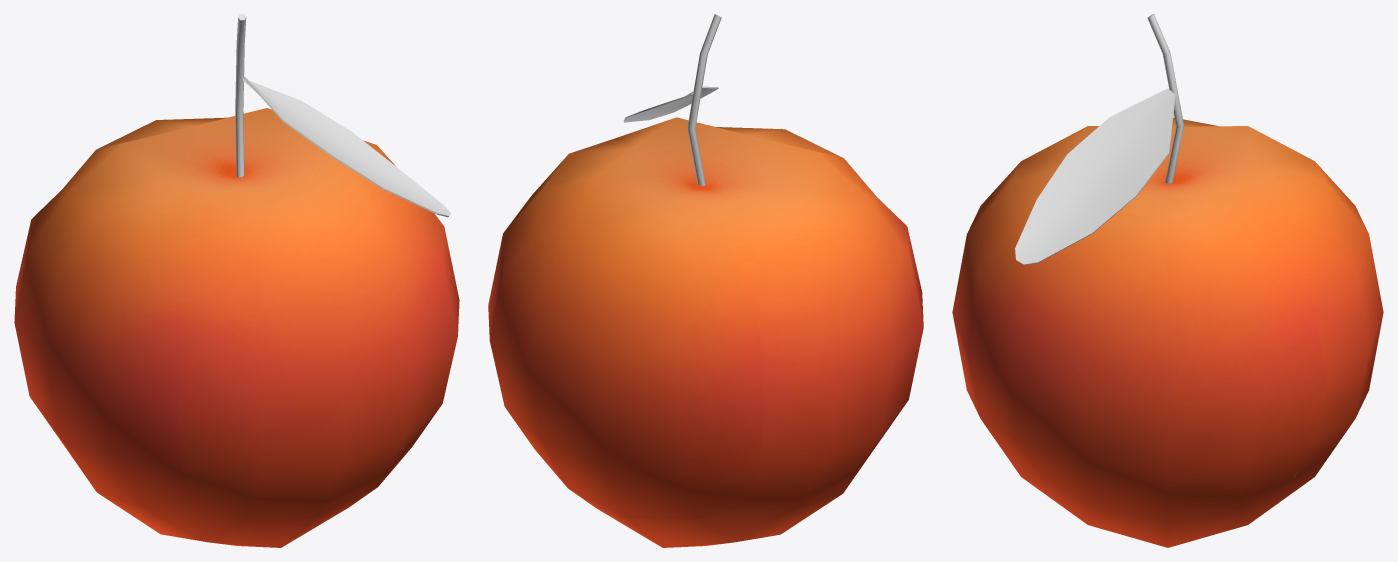
File: pessego.FBX
The picture shows the model from 3 angles, left to right: view 1: azimuth 30°, elevation 25°; view 2: azimuth 150°, elevation 25°; view 3: azimuth 270°, elevation 25°; orthographic projection. The views are drawn at different scales.
Visible parts, largest first — view 1: Box001, Box002, Cylinder001; view 2: Box001, Cylinder001, Box002; view 3: Box001, Box002, Cylinder001.
Part boxes in pixels (x1,y1,x2,y2): Box001: (14,108,459,547); Box002: (242,76,451,217); Cylinder001: (235,14,246,177); Box001: (488,117,923,547); Cylinder001: (687,14,721,185); Box002: (623,86,718,122); Box001: (952,117,1383,547); Box002: (1015,88,1175,264); Cylinder001: (1147,14,1183,183).
Bounding box in the file's own units: 26.35 × 35.41 × 26.35.
